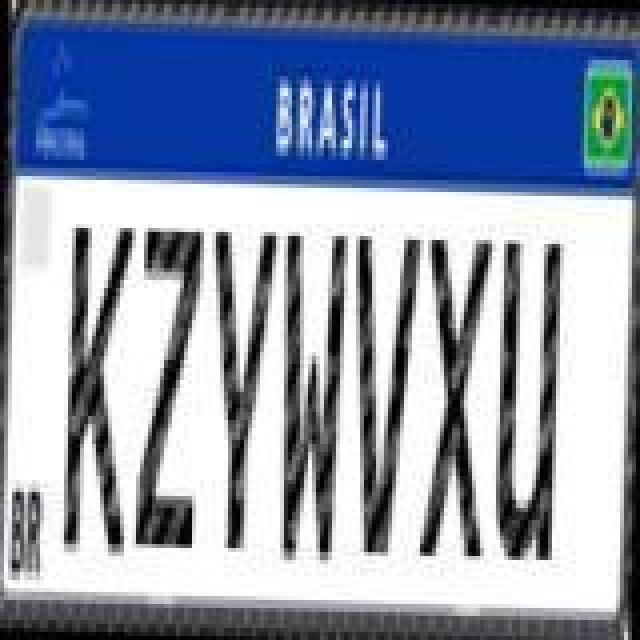K: (62, 222, 138, 562)
U: (492, 234, 564, 566)
V: (346, 232, 422, 560)
W: (274, 230, 350, 570)
X: (418, 234, 494, 566)
Y: (202, 228, 278, 556)
Z: (132, 226, 204, 558)
